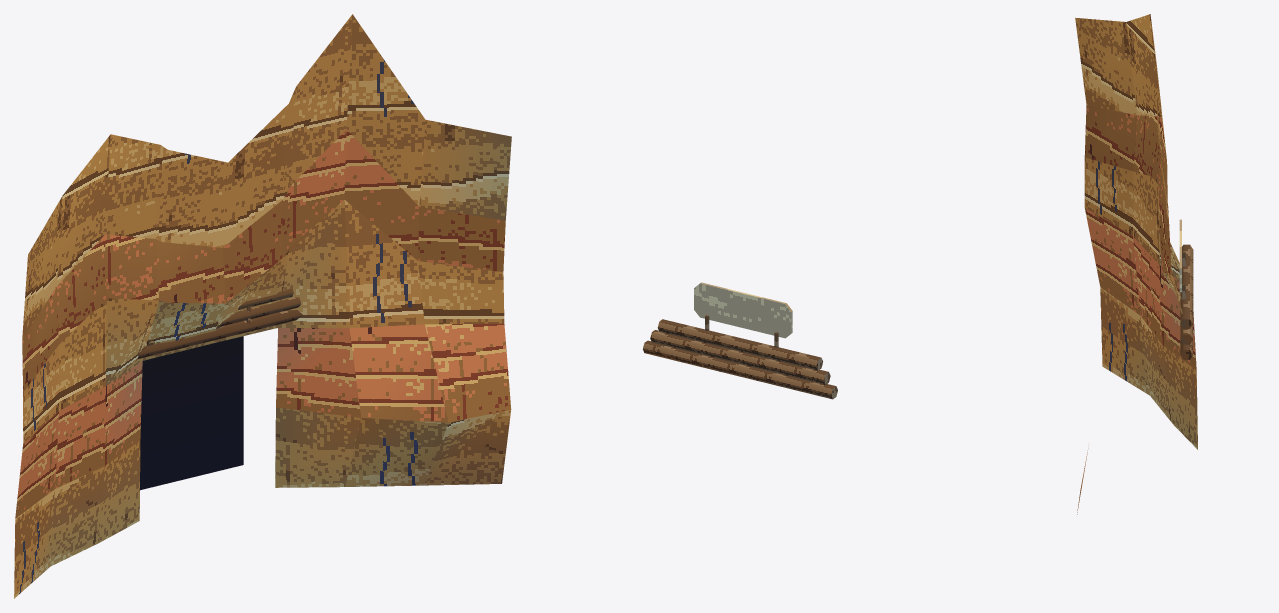
Rendered from wmine.portal.glb.
3 renders of one model, left to right at view 1: azimuth 30°, elevation 25°; view 2: azimuth 150°, elevation 25°; view 3: azimuth 270°, elevation 25°, orthographic. The views are drawn at different scales.
Visible parts, largest first — view 1: kit_shell_face, kit_card_depth, kit_lagging; view 2: kit_lagging, kit_trim; view 3: kit_shell_face, kit_lagging.
Boxes of the visible parts, x1=… form: kit_shell_face: x1=14, y1=14, x2=511, y2=598; kit_card_depth: x1=140, y1=336, x2=243, y2=490; kit_lagging: x1=138, y1=288, x2=302, y2=358; kit_lagging: x1=643, y1=319, x2=837, y2=399; kit_trim: x1=694, y1=282, x2=792, y2=338; kit_shell_face: x1=1075, y1=14, x2=1197, y2=514; kit_lagging: x1=1180, y1=244, x2=1193, y2=359.
Bounding box in the file's own units: 10 × 9.5 × 3.45.
7 materials, 7 textured.
